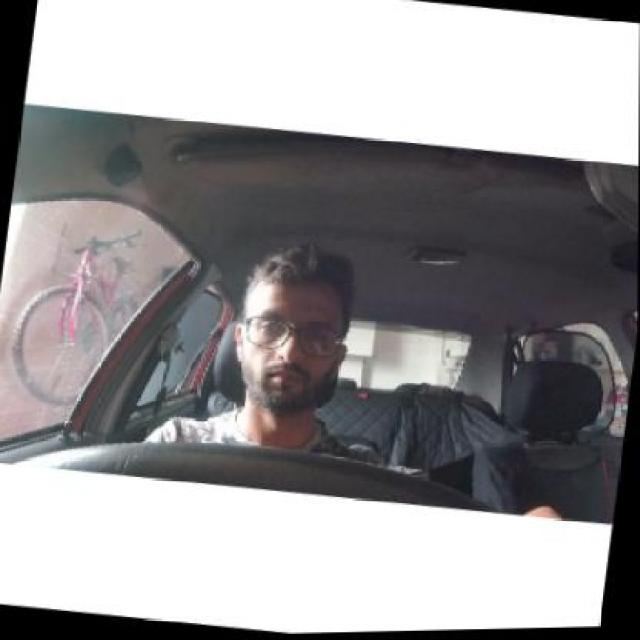person: (225, 244, 367, 419)
